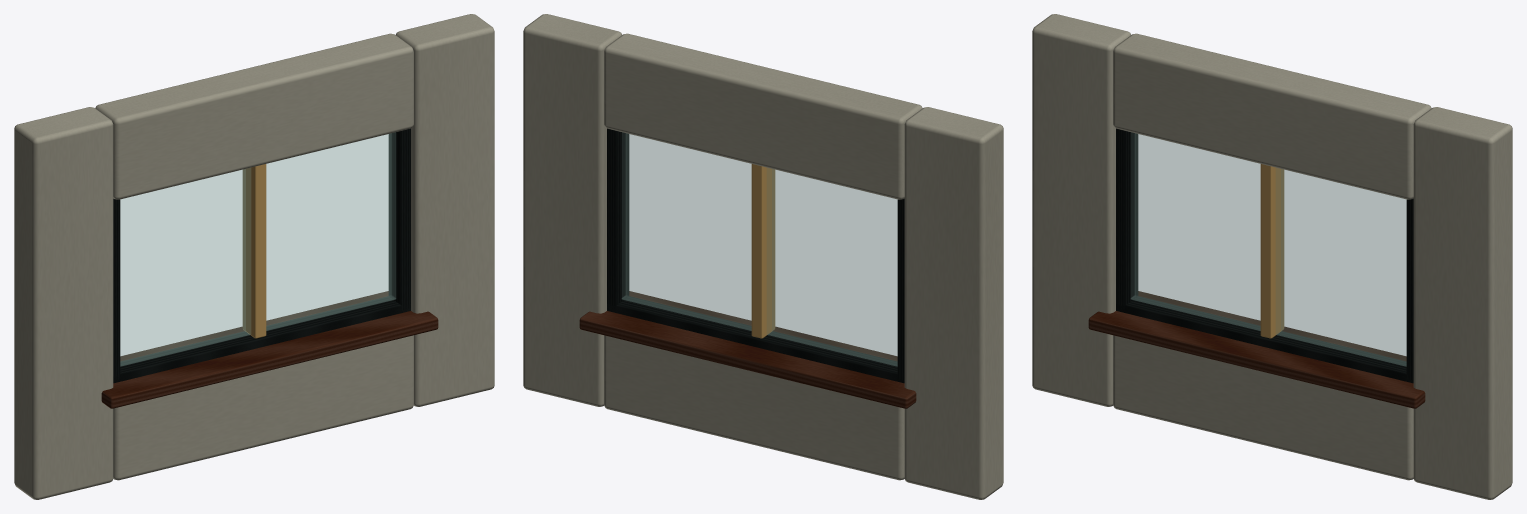
Rendered from wall-window.glb.
3 views of the same model, side by side, from view 1: azimuth 30°, elevation 25°; view 2: azimuth 150°, elevation 25°; view 3: azimuth 330°, elevation 25° (orthographic).
Visible parts, largest first — view 1: Window_Glass, WindowWall_Left, WindowWall_Right, WindowWall_Header, WindowWall_Base, Window_Sill, Window_Frame_Bottom, Window_Mullion, Window_Frame_Right, Window_Frame_Left; view 2: Window_Glass, WindowWall_Left, WindowWall_Right, WindowWall_Header, WindowWall_Base, Window_Sill, Window_Frame_Bottom, Window_Mullion, Window_Frame_Right, Window_Frame_Left; view 3: Window_Glass, WindowWall_Right, WindowWall_Left, WindowWall_Header, WindowWall_Base, Window_Sill, Window_Frame_Bottom, Window_Mullion, Window_Frame_Left, Window_Frame_Right.
Boxes of the visible parts, x1,y1,x2,y2 form: Window_Glass: (120, 132, 395, 366); WindowWall_Left: (14, 107, 113, 499); WindowWall_Right: (396, 14, 494, 406); WindowWall_Header: (95, 33, 413, 199); WindowWall_Base: (113, 335, 413, 480); Window_Sill: (101, 291, 438, 408); Window_Frame_Bottom: (113, 296, 410, 383); Window_Mullion: (242, 164, 266, 338); Window_Frame_Right: (388, 128, 410, 310); Window_Frame_Left: (113, 198, 120, 380); Window_Glass: (622, 132, 897, 366); WindowWall_Left: (904, 107, 1003, 499); WindowWall_Right: (523, 14, 621, 406); WindowWall_Header: (604, 33, 922, 199); WindowWall_Base: (604, 335, 904, 480); Window_Sill: (579, 291, 916, 408); Window_Frame_Bottom: (607, 296, 904, 383); Window_Mullion: (751, 164, 775, 338); Window_Frame_Right: (607, 128, 629, 310); Window_Frame_Left: (897, 198, 904, 380); Window_Glass: (1131, 132, 1406, 366); WindowWall_Right: (1413, 107, 1512, 499); WindowWall_Left: (1032, 14, 1130, 406); WindowWall_Header: (1113, 33, 1431, 199); WindowWall_Base: (1113, 335, 1413, 480); Window_Sill: (1088, 291, 1425, 408); Window_Frame_Bottom: (1116, 296, 1413, 383); Window_Mullion: (1260, 164, 1284, 338); Window_Frame_Left: (1116, 128, 1138, 310); Window_Frame_Right: (1406, 198, 1413, 380).
Bounding box in the file's own units: 4 × 3 × 0.62.
Materials: 5 (3 with a texture image).
